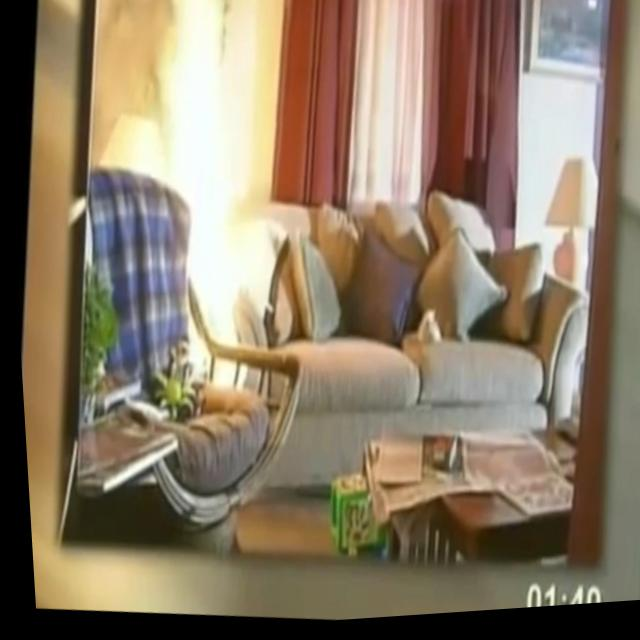fire: (133, 0, 272, 386)
